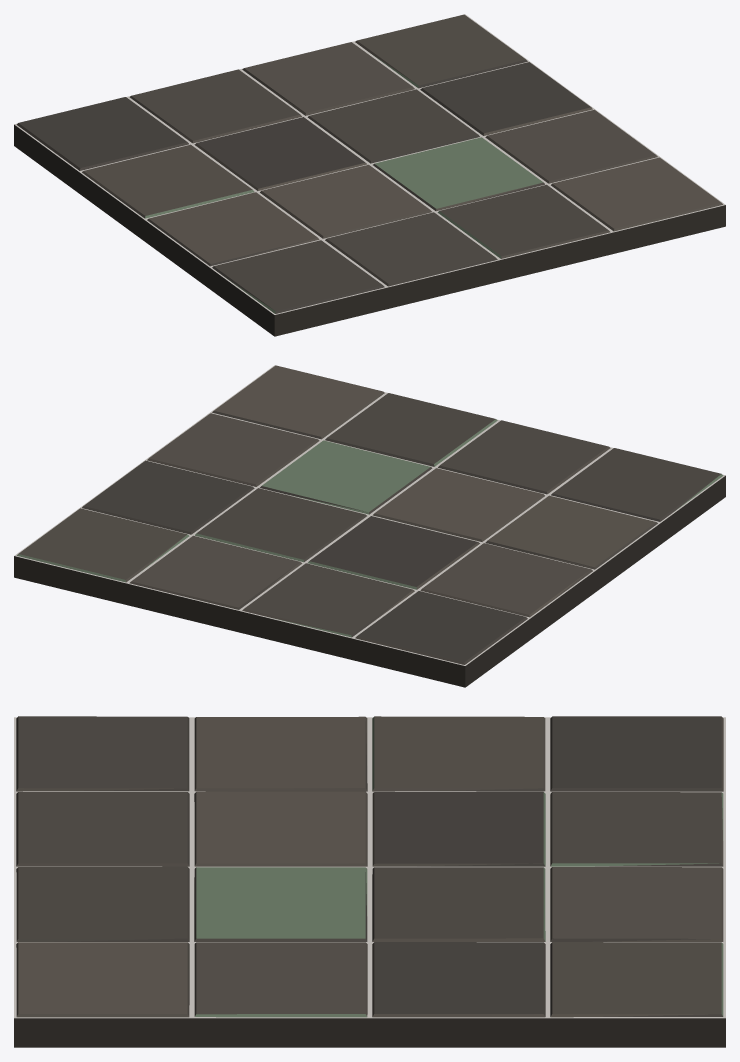
The model's file is ceramic-floor-tile-green-ecf05f.glb.
The picture shows the model from 3 angles, top to bottom: view 1: azimuth 30°, elevation 25°; view 2: azimuth 150°, elevation 25°; view 3: azimuth 270°, elevation 25°; orthographic projection. The views are drawn at different scales.
Visible parts, largest first — view 1: tile-slab; view 2: tile-slab; view 3: tile-slab.
Boxes of the visible parts, x1,y1,x2,y2 form: tile-slab: [14, 14, 725, 336]; tile-slab: [14, 365, 725, 687]; tile-slab: [14, 716, 725, 1047].
Size of the model in its own units: 1 by 0.05 by 1.
